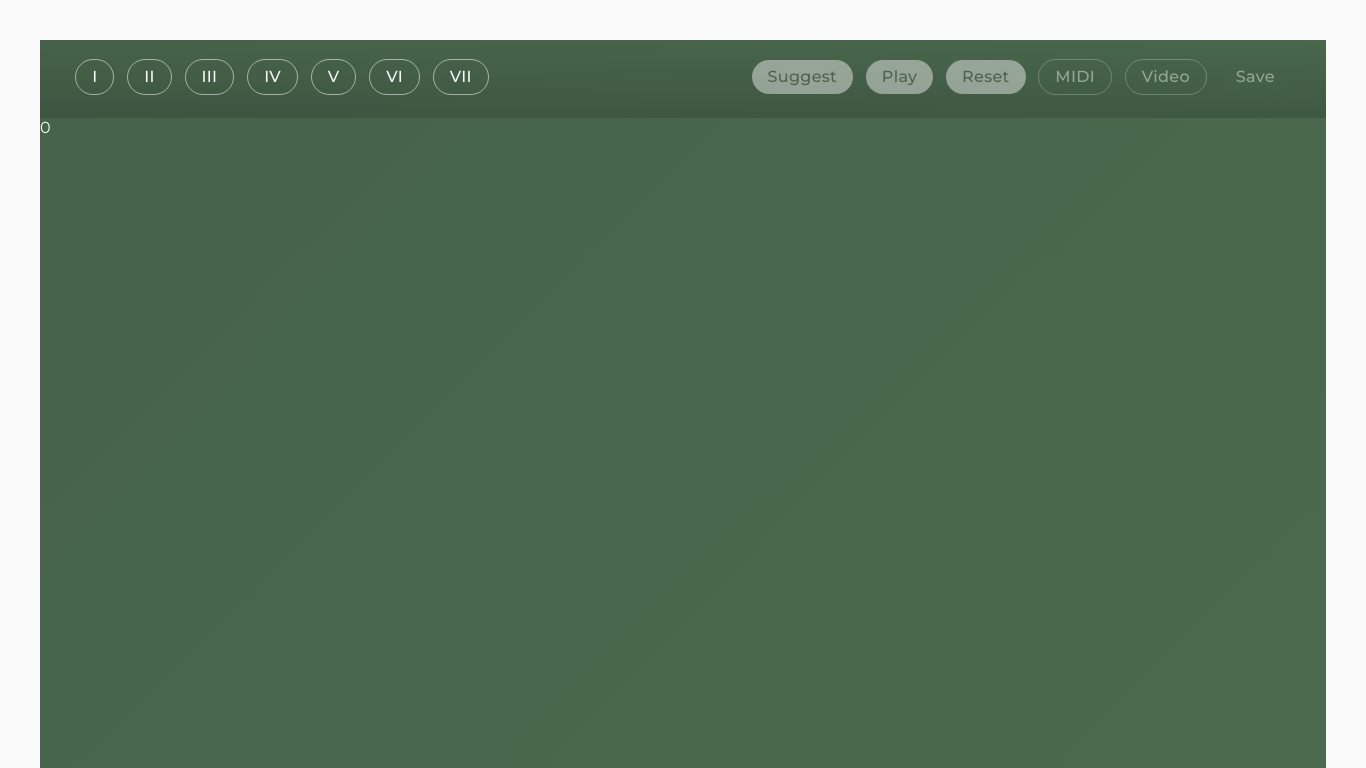
ChordDock › resets the progression
Click the button named "Add chord I" at (95, 77), box [72,56,118,98]
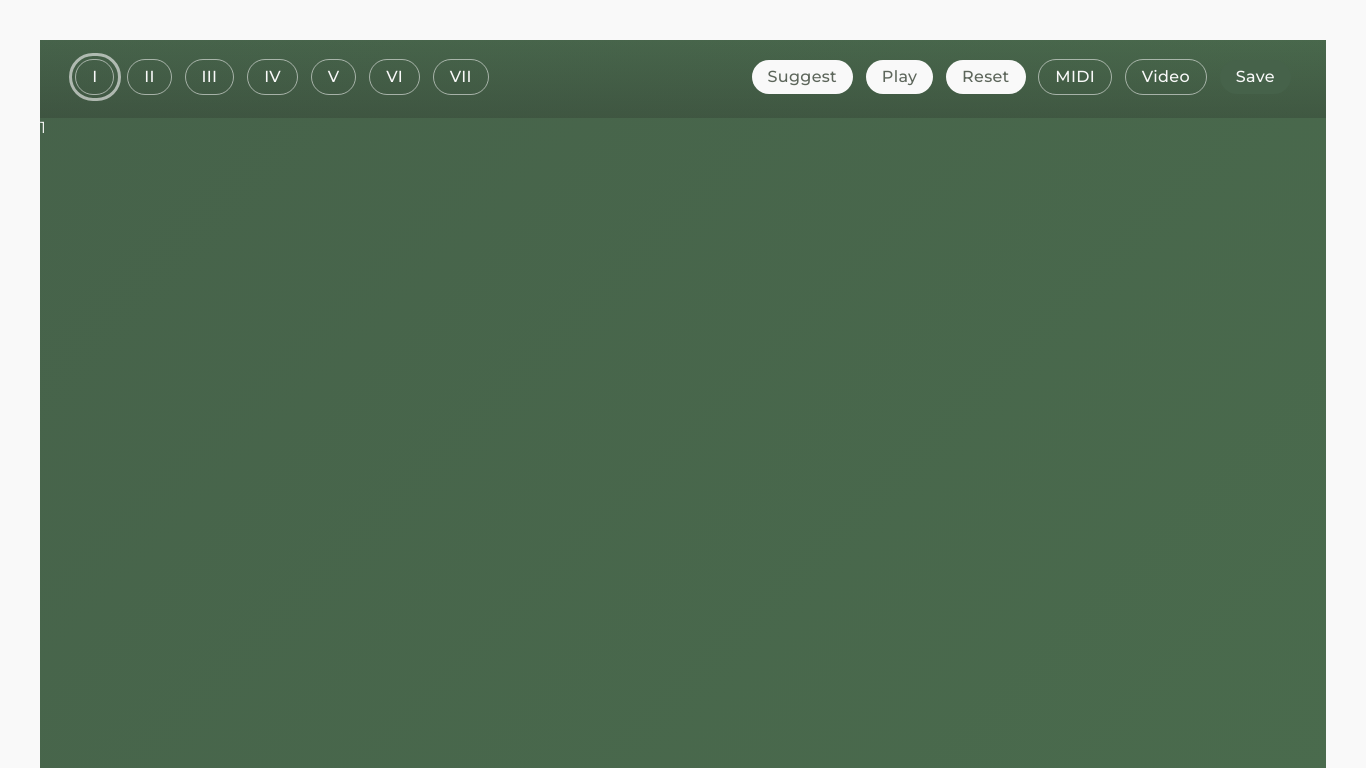
Click the button "Reset" at (986, 77), box [943,56,1029,98]
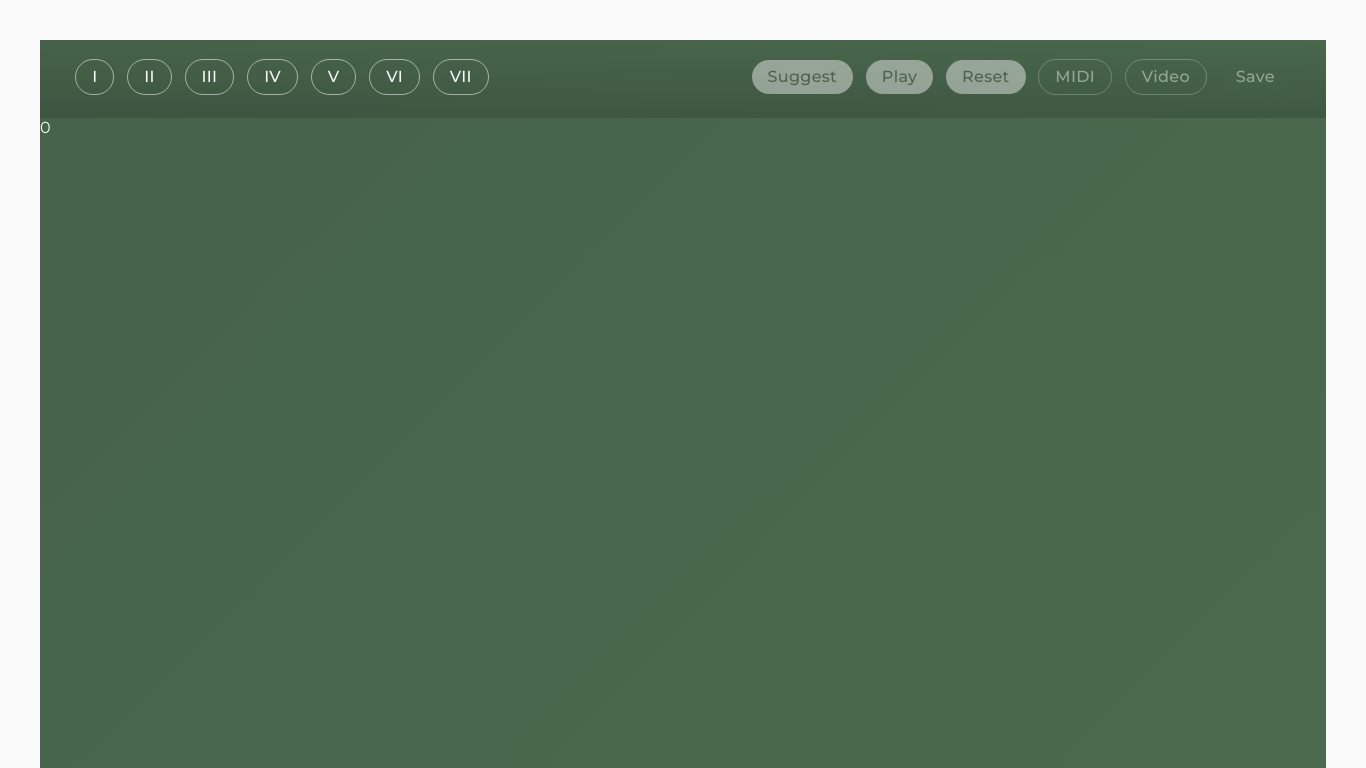
Check: the text with test id "count" reads "0", box [40,118,51,137]
